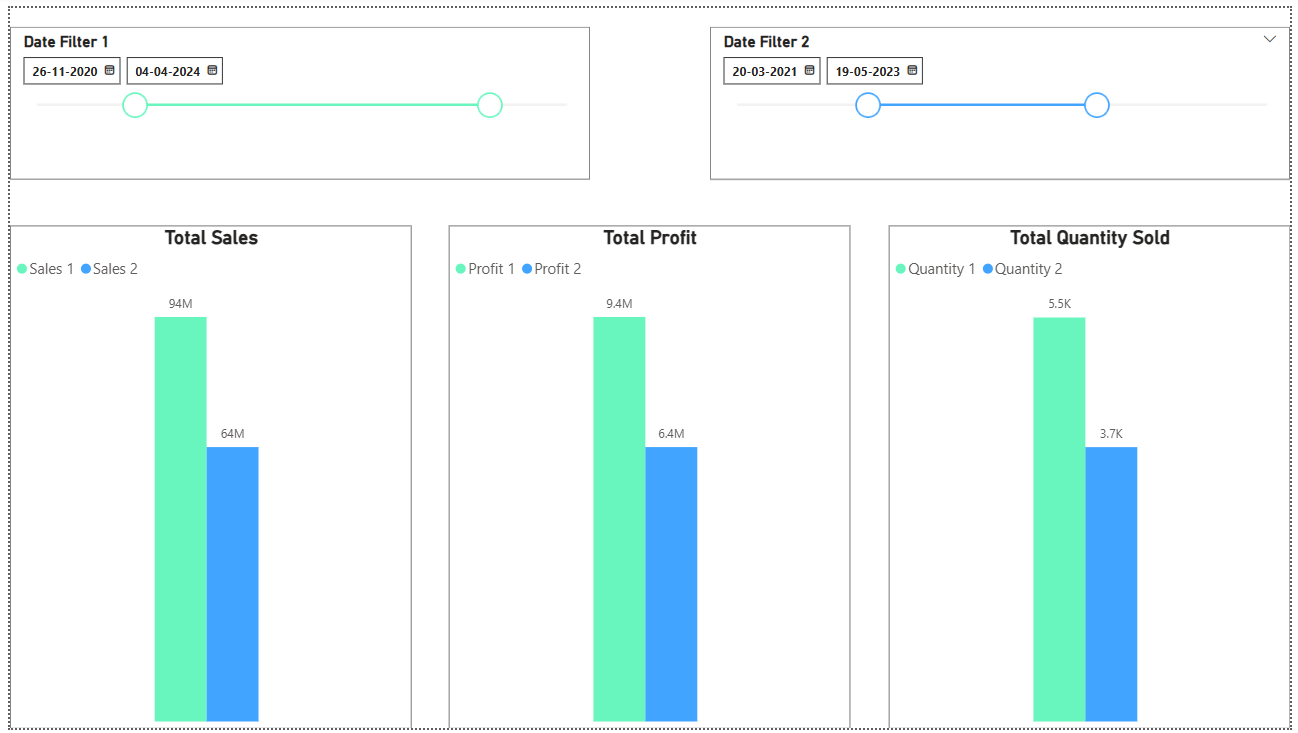

The dashboard page shown, as its layout file describes it:
{"tool":"powerbi","page":{"name":"Requirement 4 Method-1","canvas":[1280,720],"ordinal":2},"visuals":[{"type":"slicer","fields":{"Values":["Date Table 1.Date"]},"box":[0,18.6,580,152.9],"z":0},{"type":"slicer","fields":{"Values":["Date Table 2.Date"]},"box":[700,18.6,580,152.9],"z":1000},{"type":"clusteredColumnChart","title":"Total Sales ","fields":{"Y":["Sum(Fact Table.Net Sales )","Measures Table.Total Sales"]},"box":[0,217.1,401.4,502.9],"z":2000},{"type":"clusteredColumnChart","title":"Total Profit","fields":{"Y":["Sum(Fact Table.Profit)","Measures Table.Total Profit"]},"box":[438.6,217.1,401.4,502.9],"z":3000},{"type":"clusteredColumnChart","title":"Total Quantity Sold","fields":{"Y":["Sum(Fact Table.Units Sold)","Measures Table.Total Quantity"]},"box":[878.6,217.1,401.4,502.9],"z":4000}]}

Visuals, with their boxes in screenshot pixels (x1, y1, x2, y2), scaled from the page's 1280x720 canvas onto the 1298x733 screenshot:
slicer - Date Table 1.Date: box(0, 19, 588, 175)
slicer - Date Table 2.Date: box(710, 19, 1297, 175)
"Total Sales " clusteredColumnChart: box(0, 221, 407, 732)
"Total Profit" clusteredColumnChart: box(445, 221, 852, 732)
"Total Quantity Sold" clusteredColumnChart: box(891, 221, 1297, 732)
